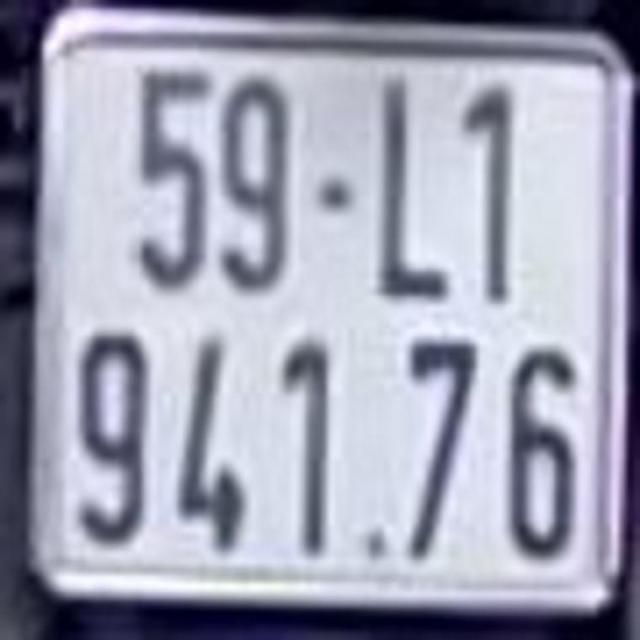1: (274, 330, 344, 565), (462, 73, 528, 306)
4: (176, 330, 246, 565)
5: (131, 66, 212, 289)
6: (502, 332, 580, 570)
7: (401, 336, 478, 559)
9: (72, 328, 148, 554), (217, 68, 288, 295)
L: (374, 65, 452, 313)
